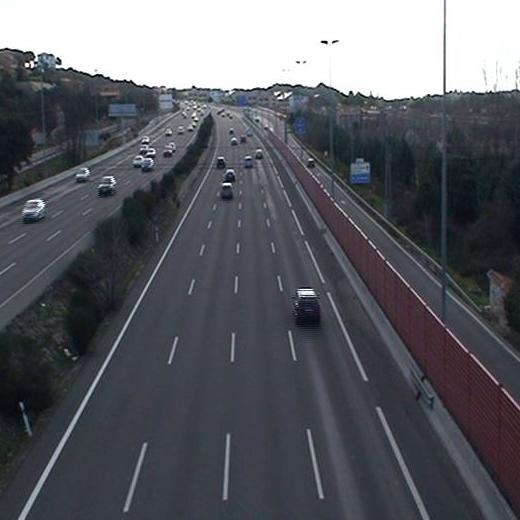car: (289, 286, 325, 328), (217, 181, 235, 201), (221, 166, 238, 183), (214, 153, 226, 169)
